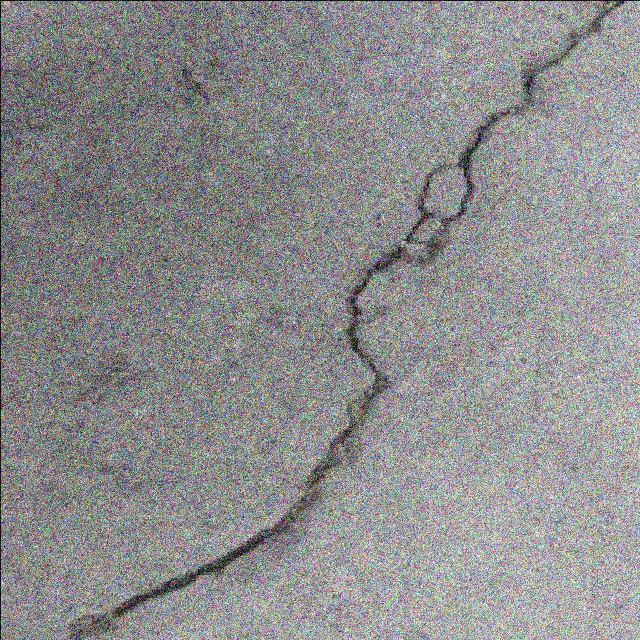SurfaceCrack: (48, 0, 640, 634)
